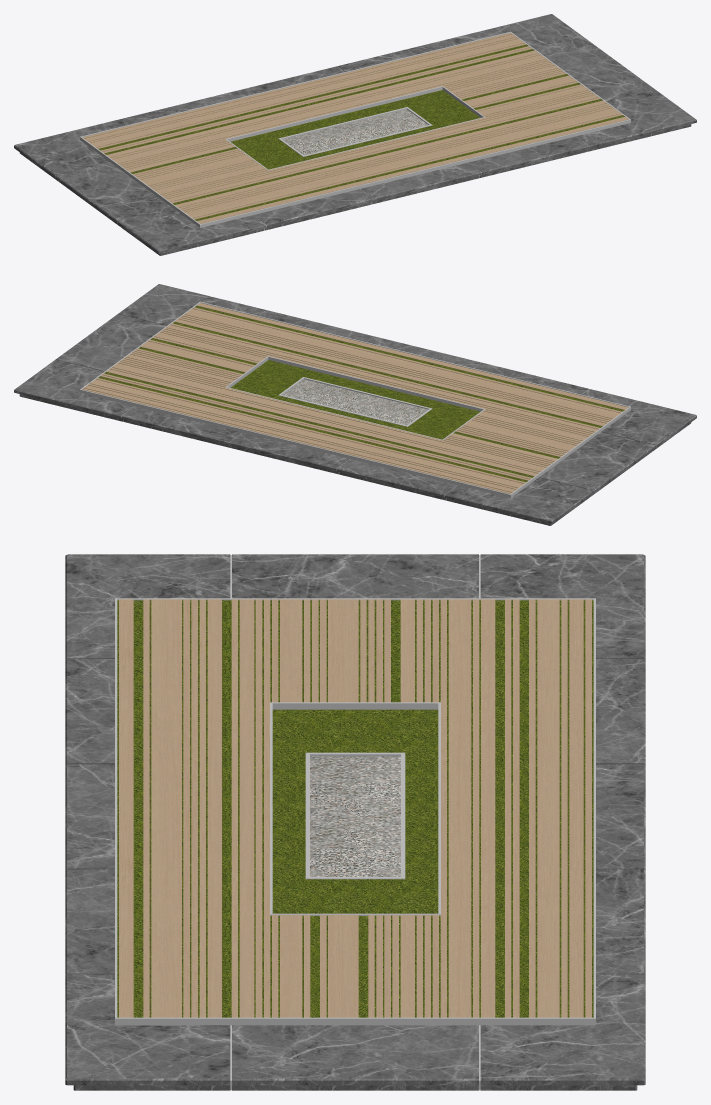
3 renders of one model, top to bottom at view 1: azimuth 30°, elevation 25°; view 2: azimuth 150°, elevation 25°; view 3: azimuth 270°, elevation 25°, orthographic. The views are drawn at different scales.
Parts seen in each view (by area): view 1: M_F_301_e_15x7; view 2: M_F_301_e_15x7; view 3: M_F_301_e_15x7.
Part boxes in pixels (left/top/right/bottom): M_F_301_e_15x7: left=14, top=14, right=696, bottom=255; M_F_301_e_15x7: left=14, top=284, right=696, bottom=525; M_F_301_e_15x7: left=65, top=554, right=645, bottom=1090.
Size of the model in its own units: 15 by 0.305 by 7.
